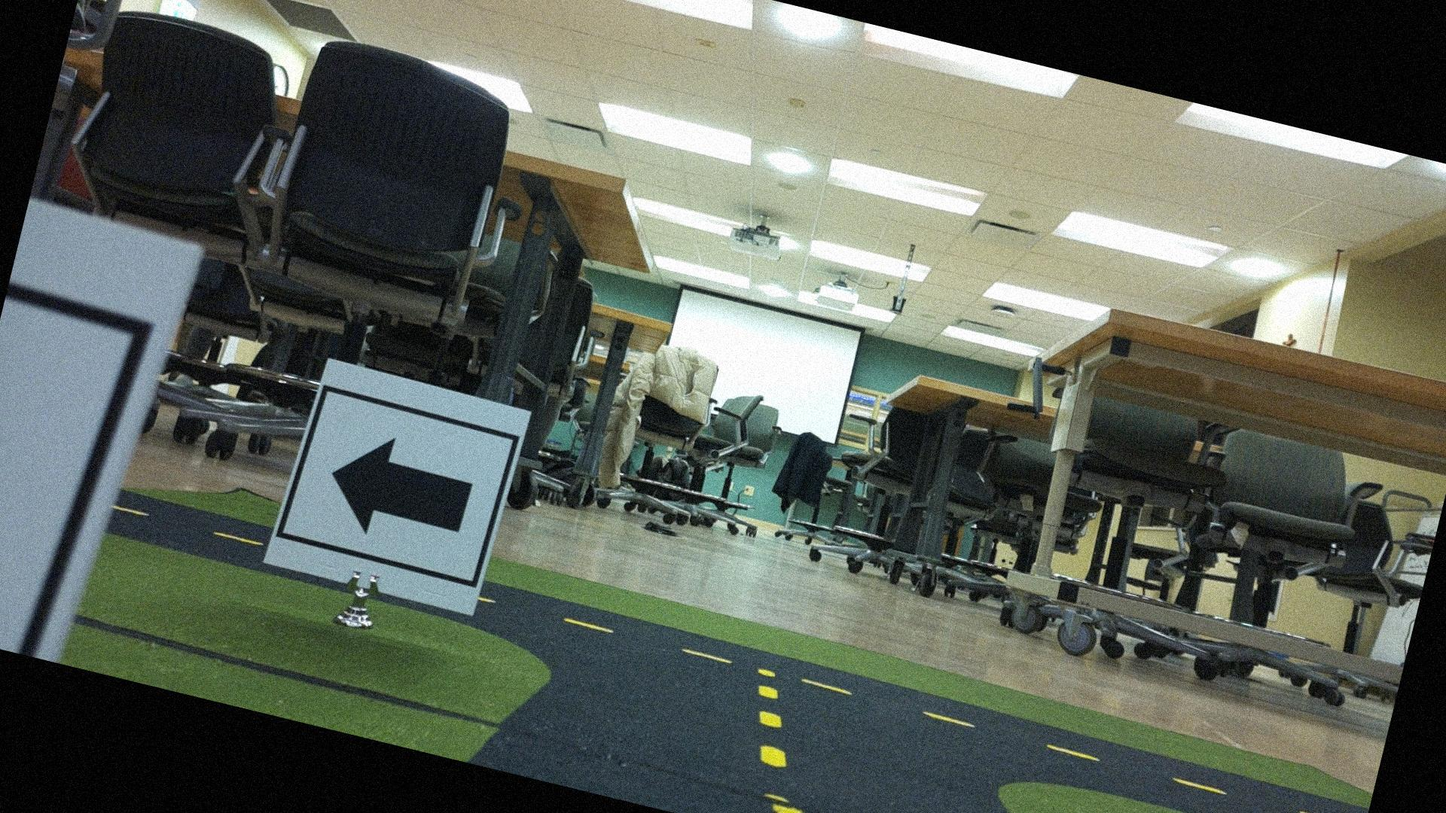turnleft: (276, 361, 518, 615)
yellowline: (562, 617, 1368, 812), (743, 687, 800, 771)
